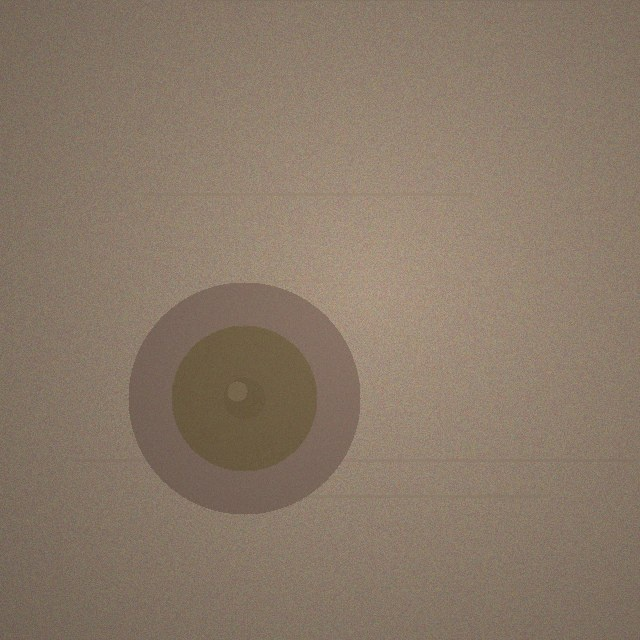good: (128, 282, 360, 514)
